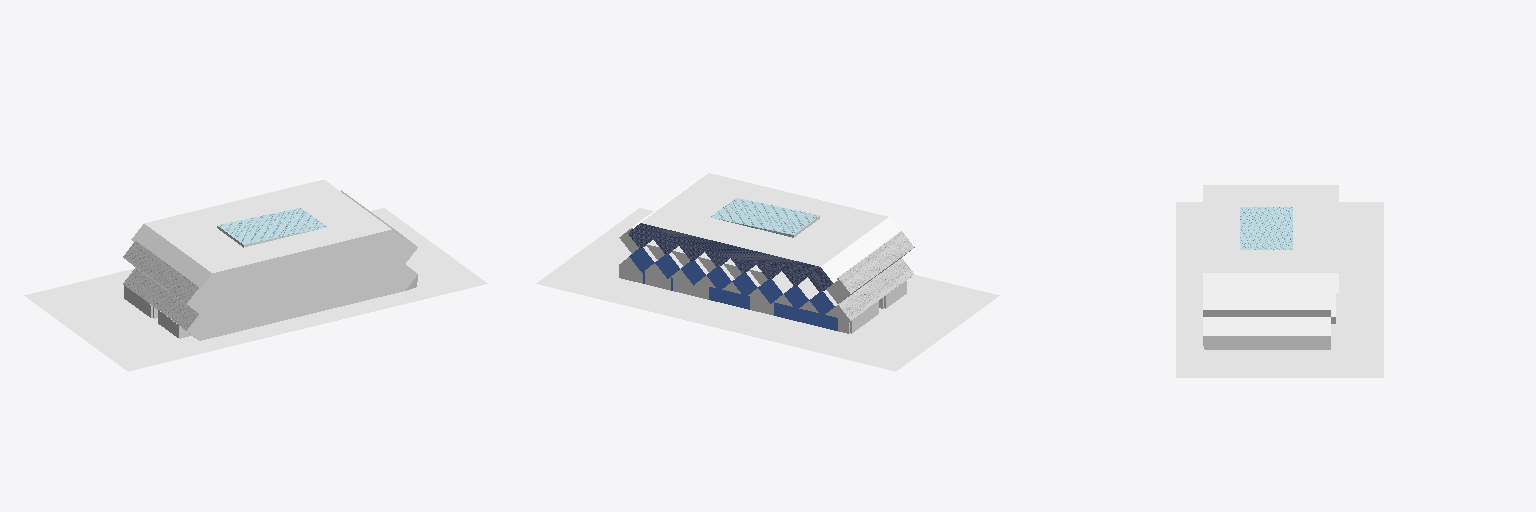
3 renders of one model, left to right at view 1: azimuth 30°, elevation 25°; view 2: azimuth 150°, elevation 25°; view 3: azimuth 270°, elevation 25°, orthographic.
Visible parts, largest first — view 1: ccomercial_EDIFICIOS-PARQUE.001; view 2: ccomercial_EDIFICIOS-PARQUE.001; view 3: ccomercial_EDIFICIOS-PARQUE.001.
Part boxes in pixels (x1,y1,x2,y2): ccomercial_EDIFICIOS-PARQUE.001: (24,180,487,371); ccomercial_EDIFICIOS-PARQUE.001: (536,173,999,371); ccomercial_EDIFICIOS-PARQUE.001: (1176,185,1383,377).
Bounding box in the file's own units: 303 × 54.1 × 151.
Materials: 5 (3 with a texture image).